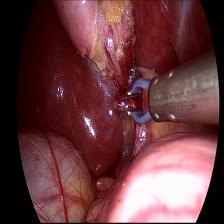Bipolar: (114, 68, 190, 130)
